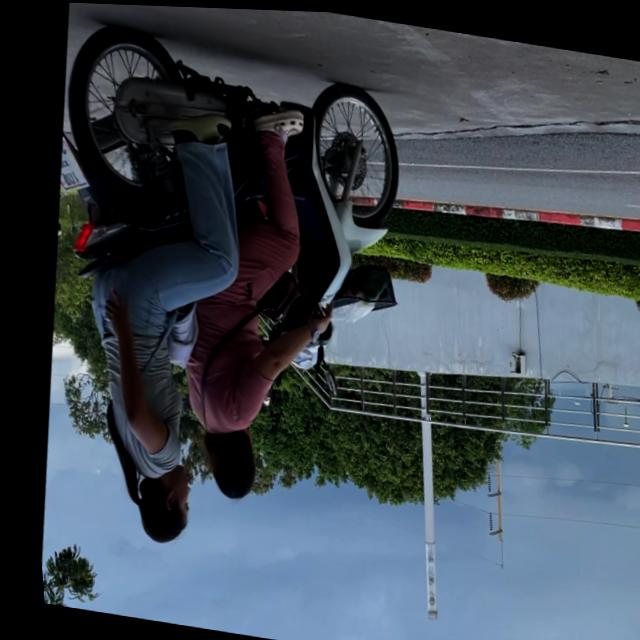seatbelt: (113, 456, 191, 549), (188, 419, 256, 503)
